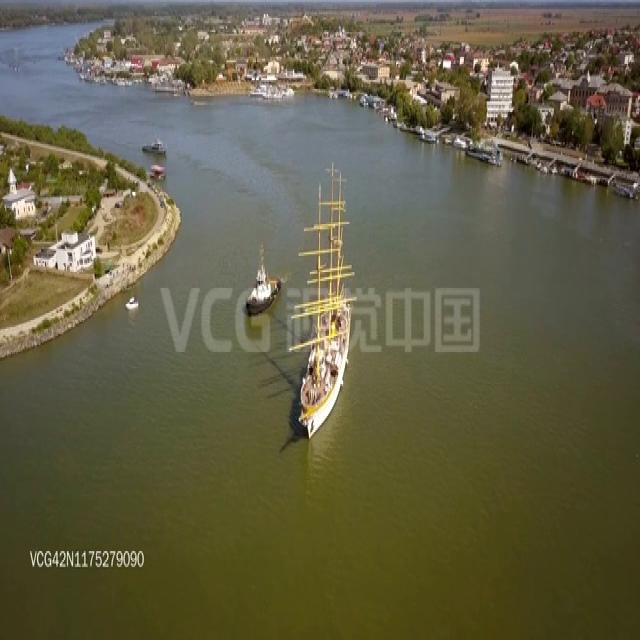houseboat: (245, 242, 279, 316), (141, 136, 165, 155), (150, 158, 166, 182), (126, 292, 138, 315)
sailboat: (292, 161, 354, 441)
